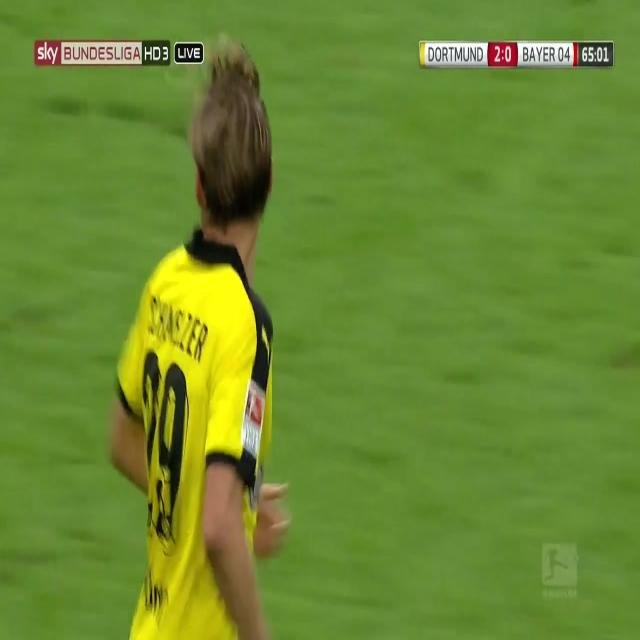Player: (104, 45, 296, 638)
